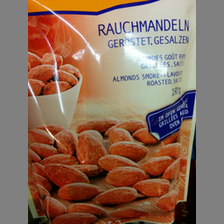nuts: (27, 1, 195, 224)
